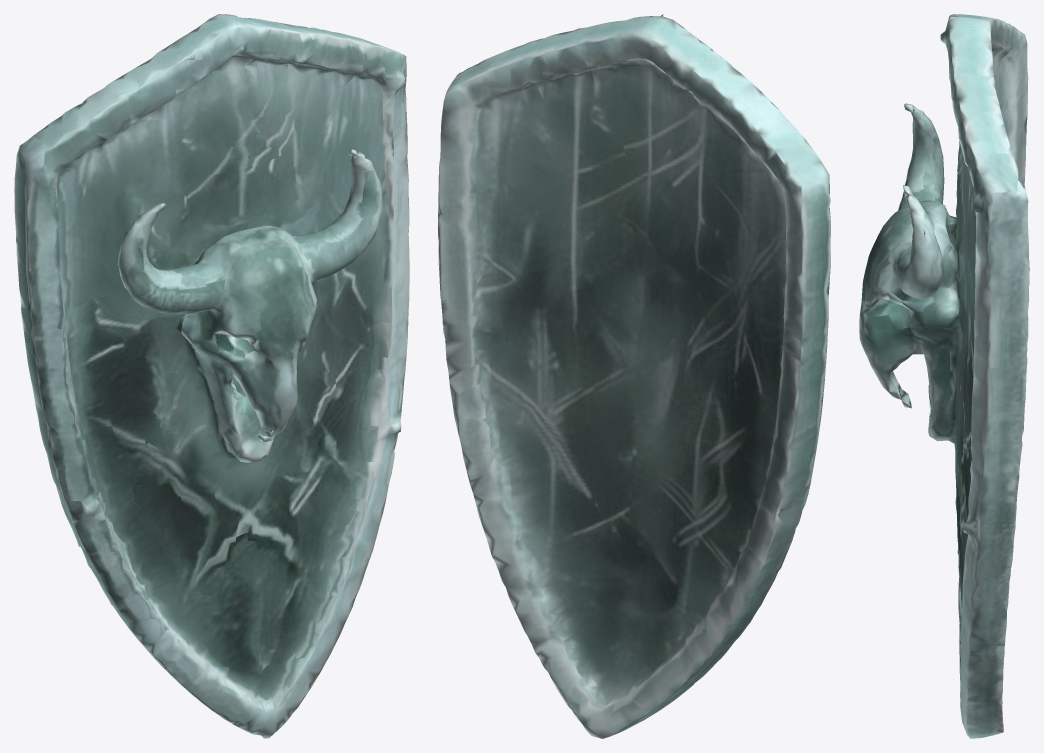
File: ayaz_kalkan.glb
The picture shows the model from 3 angles, left to right: view 1: azimuth 30°, elevation 25°; view 2: azimuth 150°, elevation 25°; view 3: azimuth 270°, elevation 25°; orthographic projection. The views are drawn at different scales.
Size of the model in its own units: 0.2754 by 0.5026 by 0.1103.
Materials: 1 (1 with a texture image).
